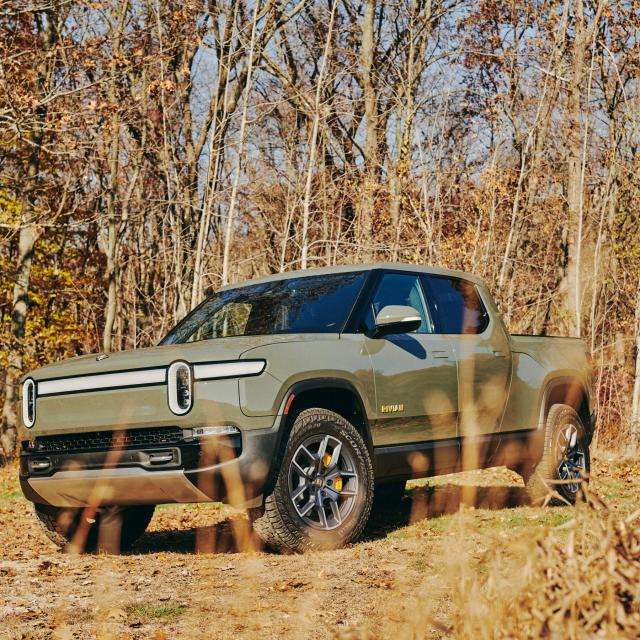truck: (15, 215, 625, 597)
